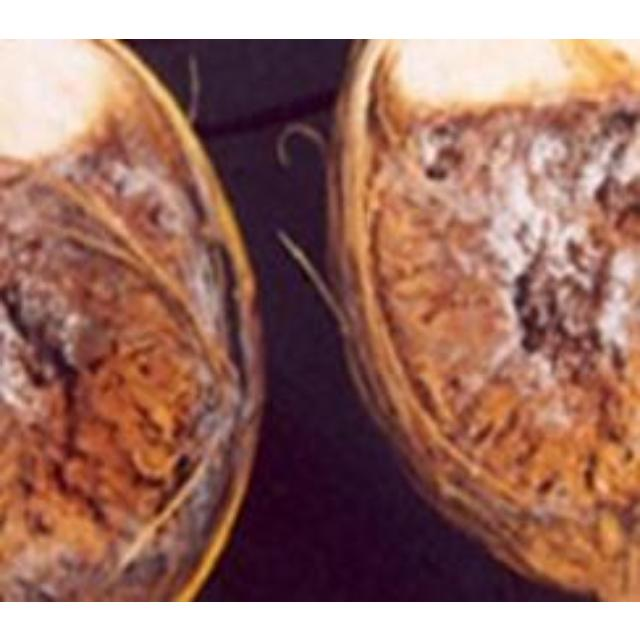damaged: (328, 38, 637, 599), (0, 38, 262, 599)
